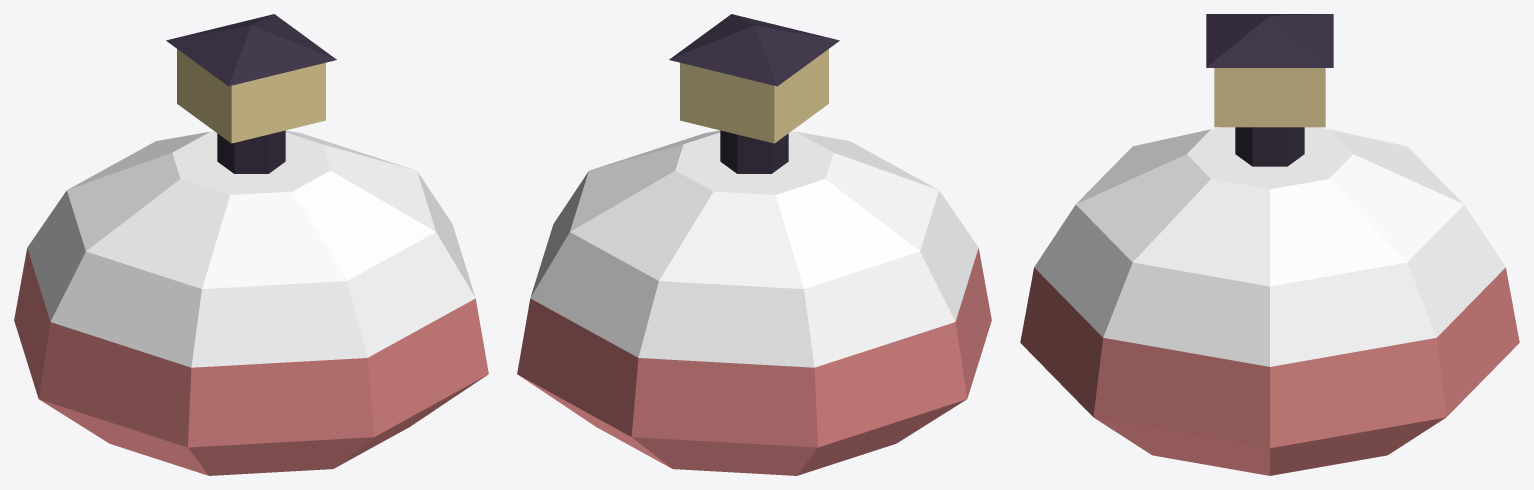
The model's file is buoy-small.glb.
3 views of the same model, side by side, from view 1: azimuth 30°, elevation 25°; view 2: azimuth 150°, elevation 25°; view 3: azimuth 270°, elevation 25° (orthographic).
Visible parts, largest first — view 1: ocean-buoy-small; view 2: ocean-buoy-small; view 3: ocean-buoy-small.
Boxes of the visible parts, x1,y1,x2,y2 form: ocean-buoy-small: (14,14,488,475); ocean-buoy-small: (517,14,991,475); ocean-buoy-small: (1020,14,1519,475).
Size of the model in its own units: 0.432 by 0.372 by 0.432.
